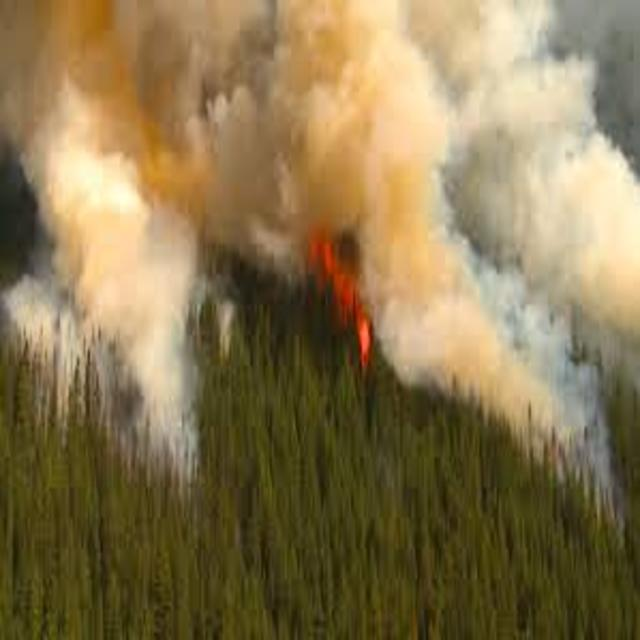Fire: (306, 234, 378, 364)
Smoke: (1, 1, 640, 232), (0, 232, 222, 496), (377, 232, 523, 386), (482, 384, 620, 531), (527, 232, 640, 384)
